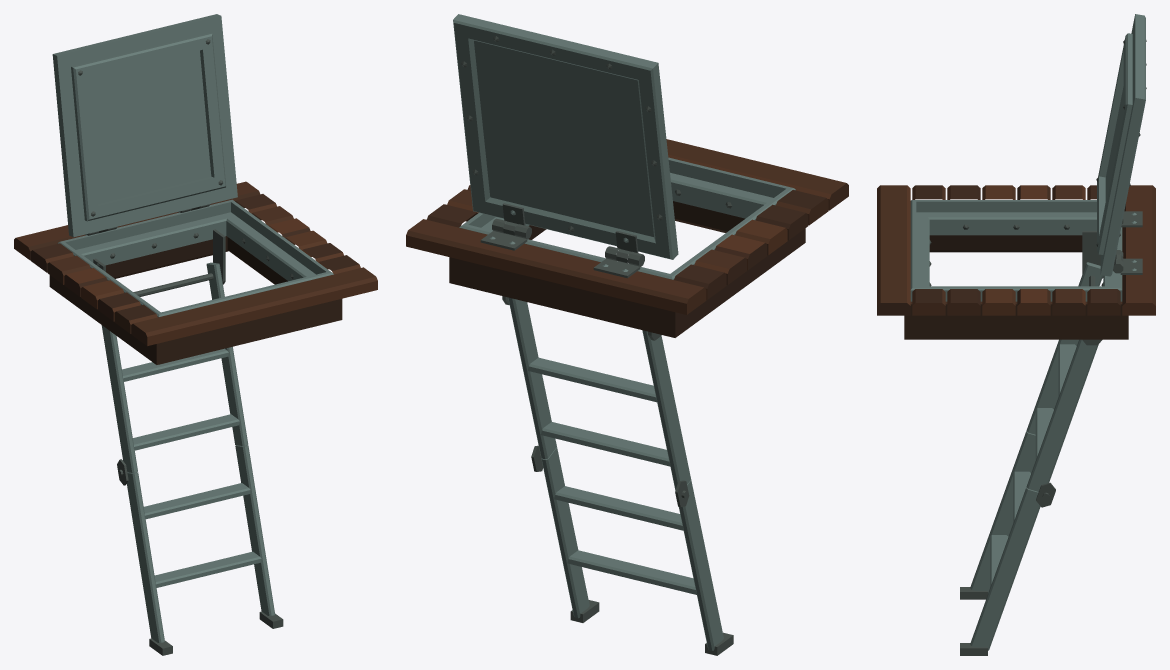
File: retractable-deck-ladder-hatch-7db90f.glb
3 views of the same model, side by side, from view 1: azimuth 30°, elevation 25°; view 2: azimuth 150°, elevation 25°; view 3: azimuth 270°, elevation 25° (orthographic). The views are drawn at different scales.
Visible parts, largest first — view 1: hatch-frame, lid-panel, ladder-2-section, ladder-section; view 2: lid-panel, hatch-frame, ladder-2-section, ladder-section; view 3: hatch-frame, lid-panel, ladder-2-section, ladder-section.
Part boxes in pixels (<box>): hatch-frame: <box>14,181,377,364</box>; lid-panel: <box>52,14,237,237</box>; ladder-2-section: <box>127,445,283,655</box>; ladder-section: <box>101,262,248,485</box>; lid-panel: <box>453,14,678,263</box>; hatch-frame: <box>406,139,848,340</box>; ladder-2-section: <box>541,447,733,655</box>; ladder-section: <box>508,297,691,507</box>; hatch-frame: <box>877,185,1155,345</box>; lid-panel: <box>1096,14,1146,276</box>; ladder-2-section: <box>960,431,1040,655</box>; ladder-section: <box>1026,262,1103,507</box>.
Size of the model in its own units: 0.994 by 2.24 by 0.994.
